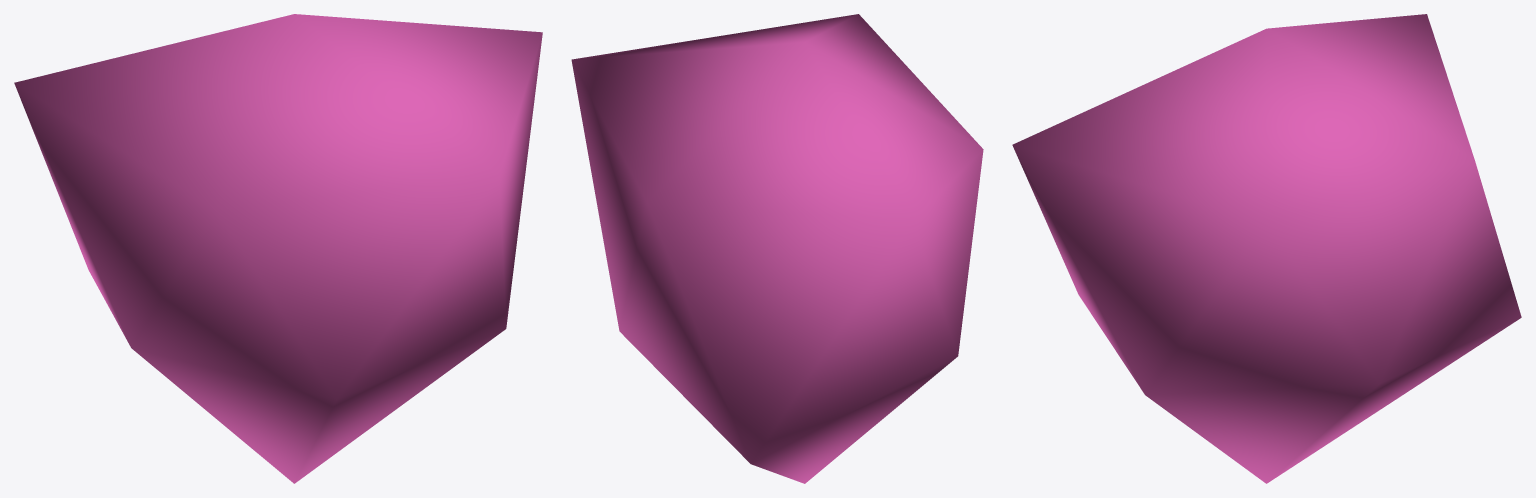
Rendered from confetti.glb.
3 renders of one model, left to right at view 1: azimuth 30°, elevation 25°; view 2: azimuth 150°, elevation 25°; view 3: azimuth 270°, elevation 25°, orthographic. The views are drawn at different scales.
Visible parts, largest first — view 1: confetti_v0; view 2: confetti_v0; view 3: confetti_v0.
Boxes of the visible parts, box(x1,y1,x2,y2) form: confetti_v0: box(14, 14, 542, 483); confetti_v0: box(571, 14, 983, 483); confetti_v0: box(1012, 14, 1521, 483).
Size of the model in its own units: 0.1932 by 0.1945 by 0.1973.
